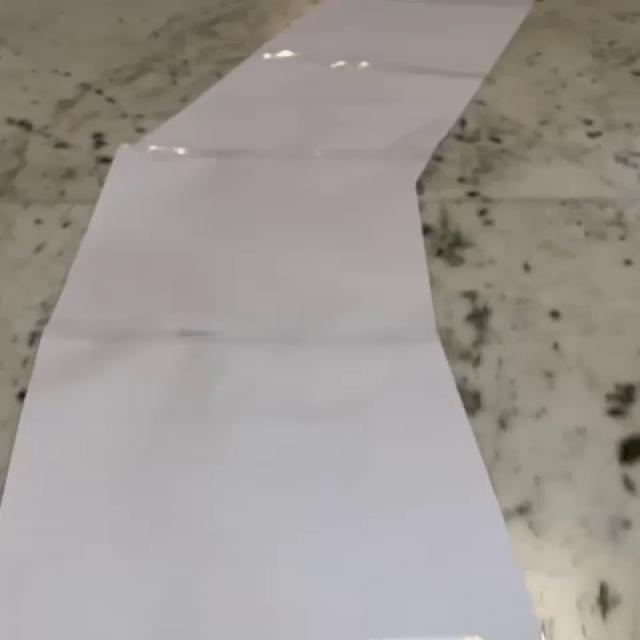road: (3, 0, 539, 640)
